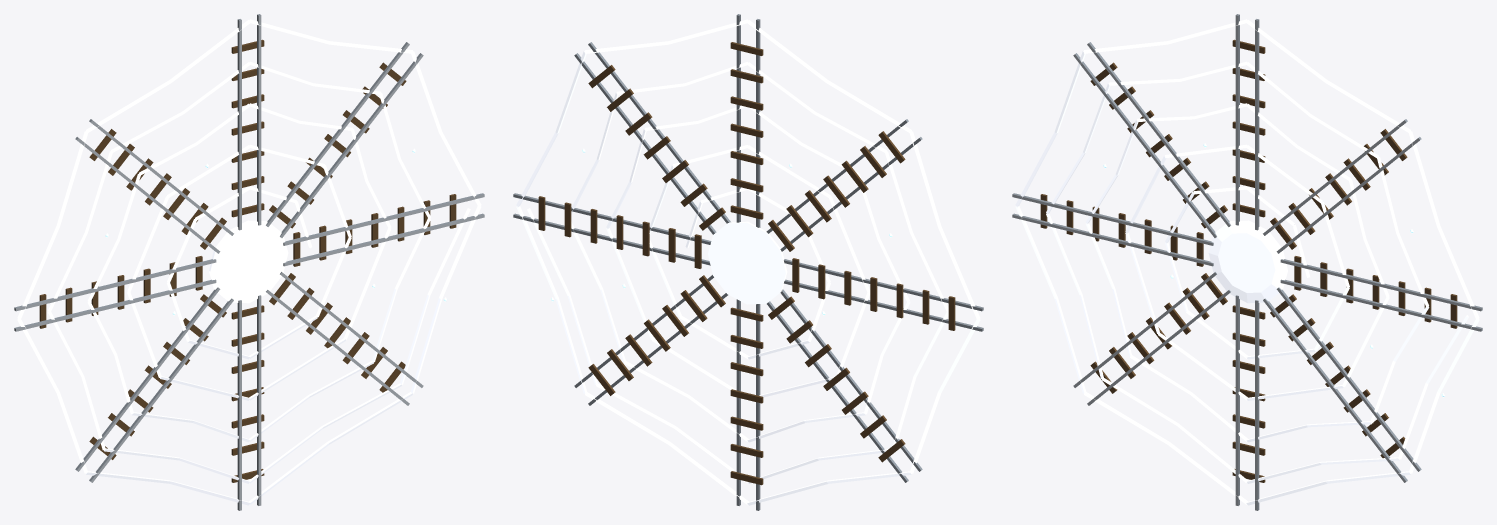
The model's file is rail-web.glb.
3 renders of one model, left to right at view 1: azimuth 30°, elevation 25°; view 2: azimuth 150°, elevation 25°; view 3: azimuth 330°, elevation 25°, orthographic.
Parts seen in each view (by area): view 1: rail-web; view 2: rail-web; view 3: rail-web.
Part boxes in pixels (box(x1,y1,x2,y2)): rail-web: box(14, 14, 484, 510); rail-web: box(513, 14, 983, 510); rail-web: box(1012, 14, 1482, 510).
Size of the model in its own units: 36 by 36 by 0.45.
